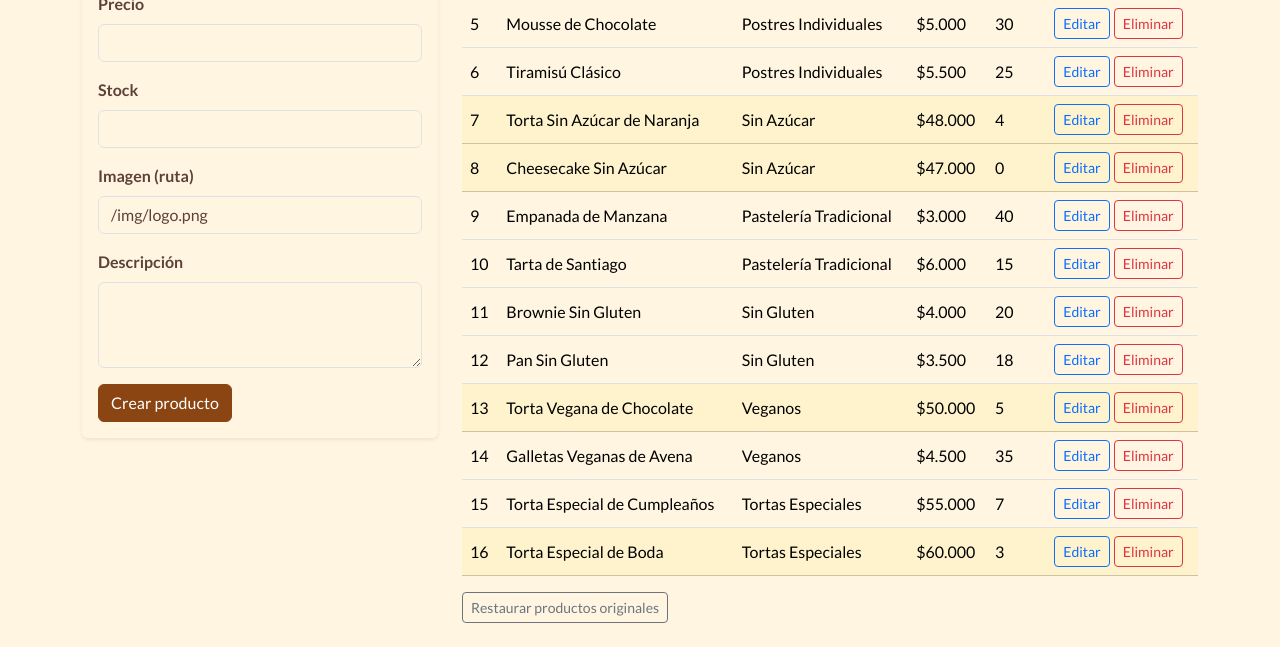
Test case: <Admin /> (CRUD de productos) › crear con el formulario vacío muestra errores y no agrega nada
The image size is (1280, 647).
(page scrolled)
Click the button "Crear producto".
click(165, 403)  # box [98,384,232,422]
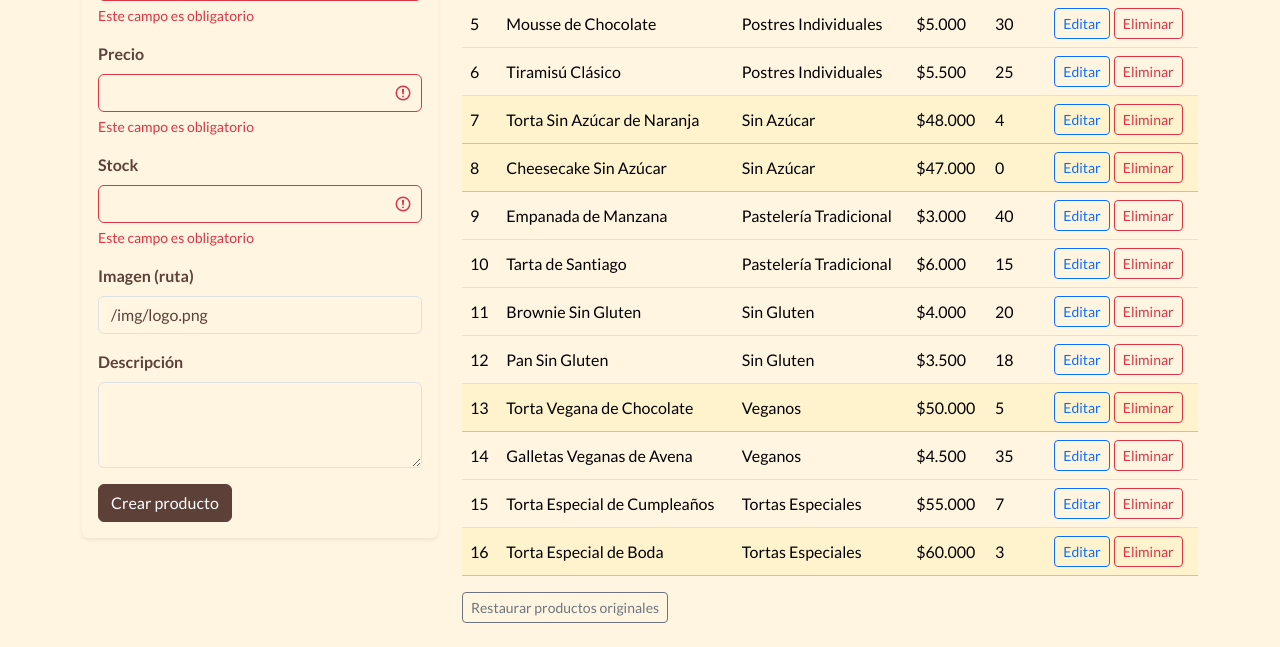
expect the number of messages is 4: met
